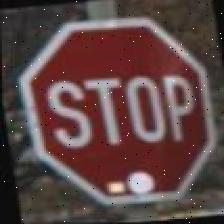Stop: (8, 9, 224, 213)
